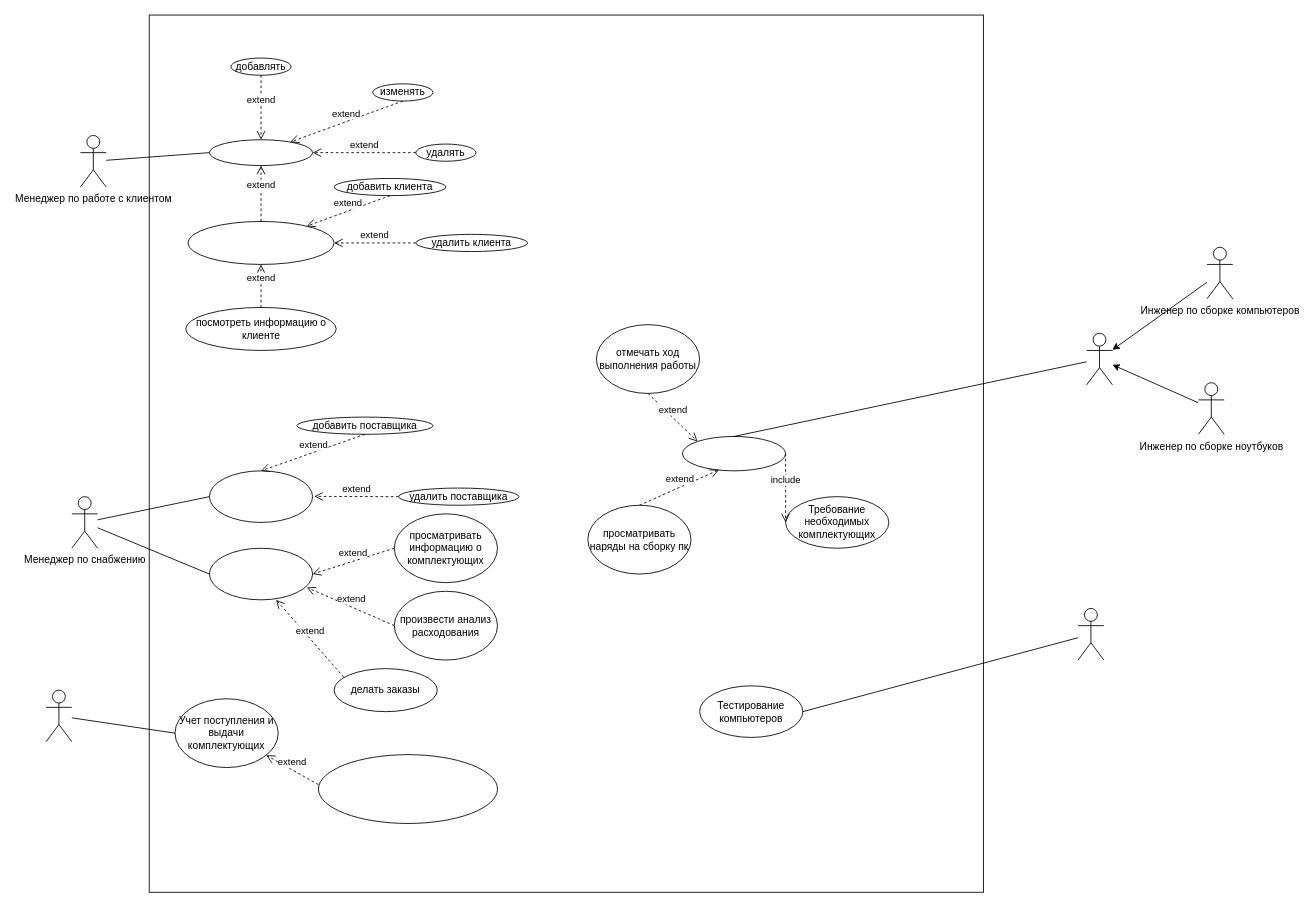
Image size: 1314x907. Some labels were removed from this diagram. Each missing label, with the centre of its shape:
"вести учет поступления и выдачи запчастей со склада" goes at [408,788].
"Завскладом" goes at [58,715].
"Инженер по сборке" goes at [1099,358].
"Инженер по тестированию" goes at [1090,634].
"Работа с заказом" goes at [261,152].
"Сборка компьютеров" goes at [734,453].
"Управление информацией о комплектующих" goes at [261,573].
"Управление информацией о поставщиках" goes at [261,496].
"упрелвение информацией о клиенте" goes at [260,242].
